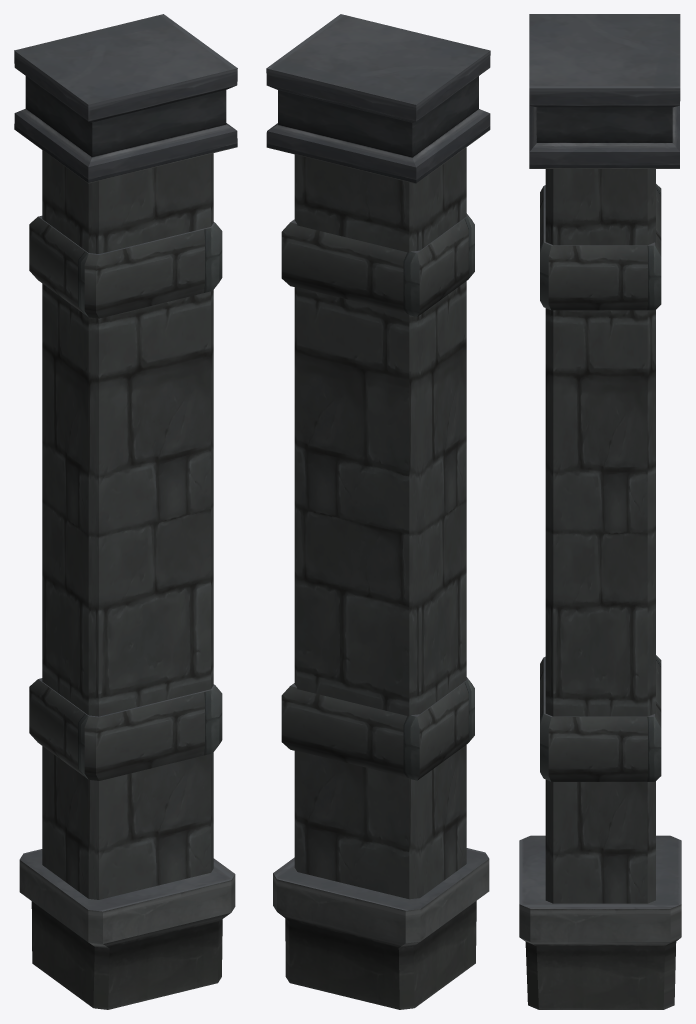
The model's file is pillar_type001.FBX.
3 views of the same model, side by side, from view 1: azimuth 30°, elevation 25°; view 2: azimuth 150°, elevation 25°; view 3: azimuth 270°, elevation 25° (orthographic).
Visible parts, largest first — view 1: pillar_type001; view 2: pillar_type001; view 3: pillar_type001.
Part boxes in pixels (bbox=[...]): pillar_type001: bbox=[14, 14, 237, 1009]; pillar_type001: bbox=[266, 14, 490, 1009]; pillar_type001: bbox=[519, 14, 681, 1009].
Size of the model in its own units: 218 by 1270 by 201.
1 material, 1 textured.
